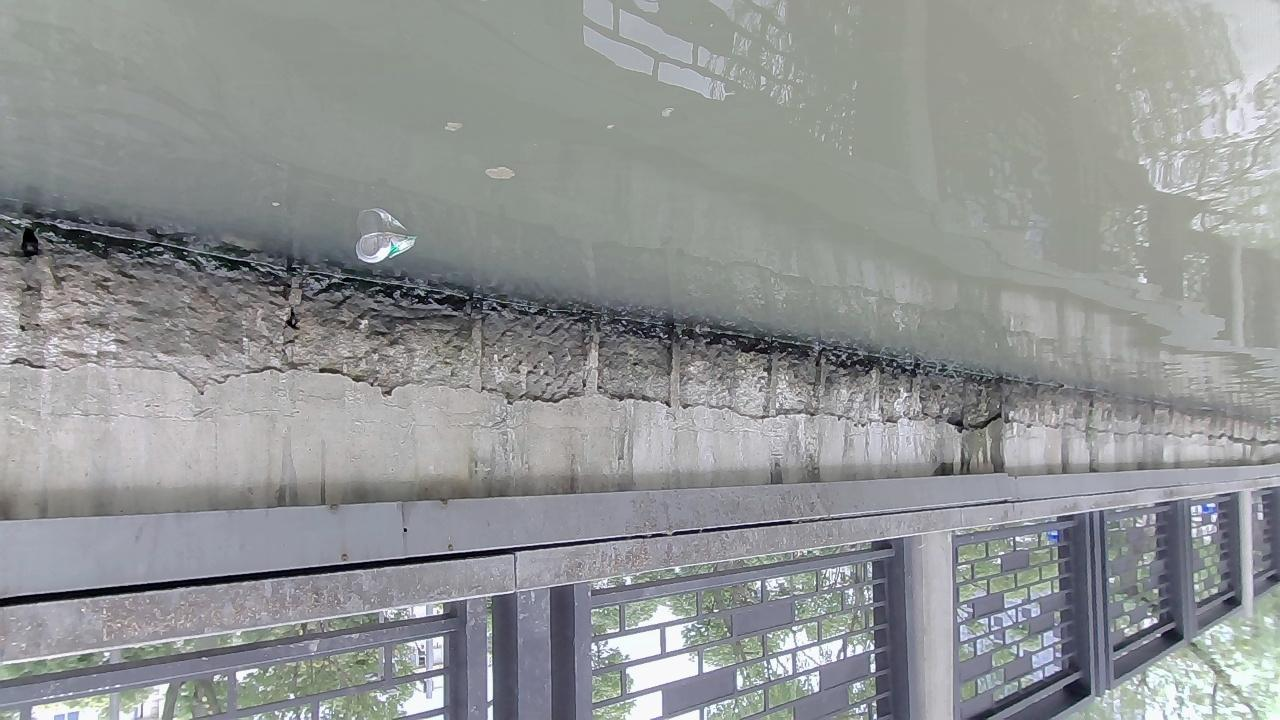Metal: (354, 232, 418, 264)
